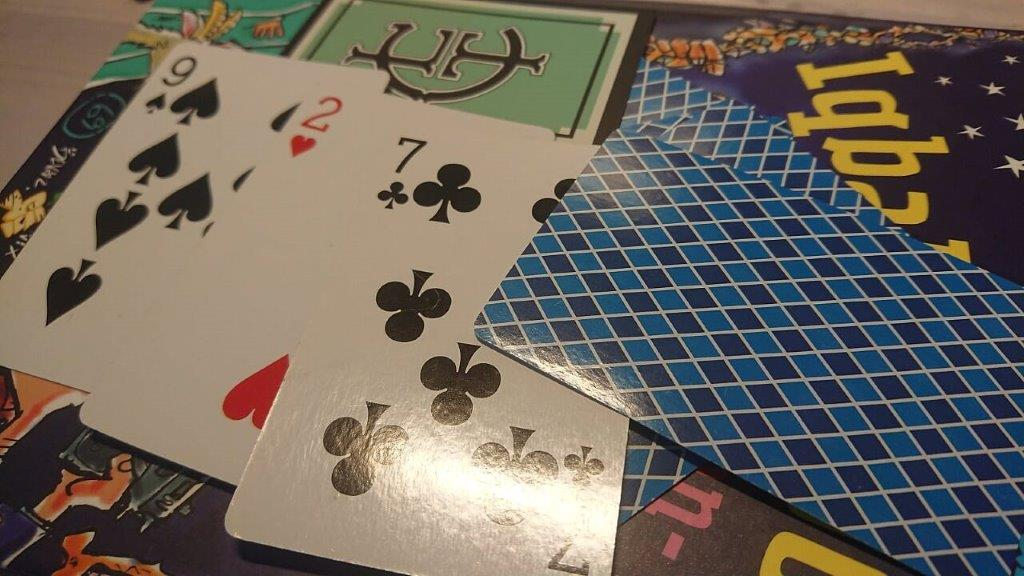2H: (286, 92, 345, 161)
7C: (372, 134, 431, 214)
9S: (141, 52, 200, 119)
BACK: (473, 124, 1024, 576)
